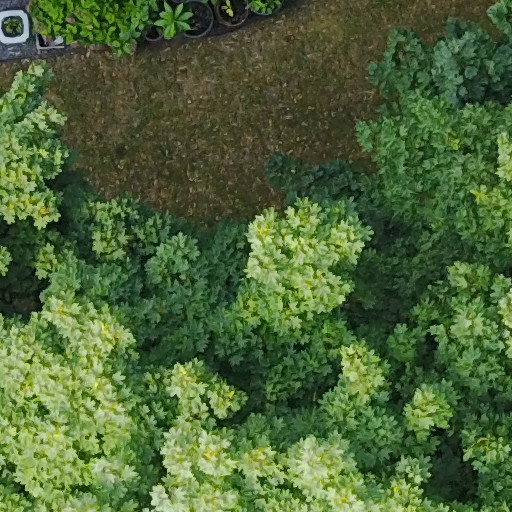flower pot: (129, 1, 177, 54), (179, 1, 227, 36), (217, 1, 259, 33), (248, 1, 290, 22)
